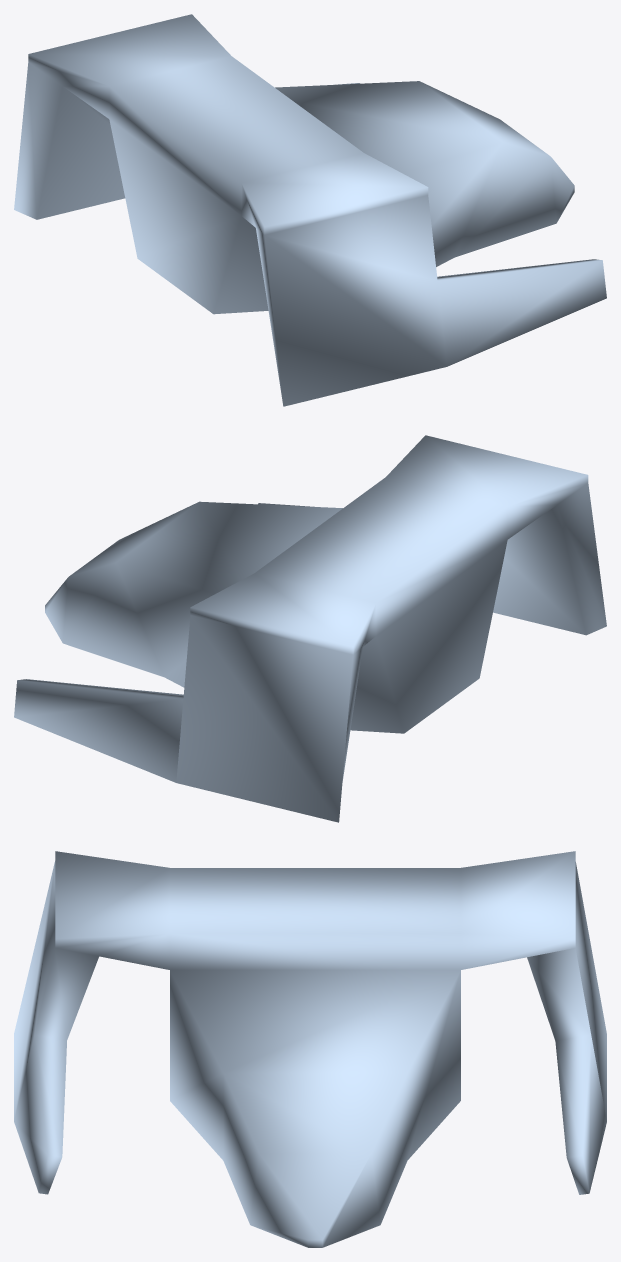
Rendered from talon_coll.obj.
3 renders of one model, top to bottom at view 1: azimuth 30°, elevation 25°; view 2: azimuth 150°, elevation 25°; view 3: azimuth 270°, elevation 25°, orthographic. The views are drawn at different scales.
Parts seen in each view (by area): view 1: cube5; view 2: cube5; view 3: cube5.
Part boxes in pixels (x1=…): cube5: x1=14, y1=14, x2=606, y2=406; cube5: x1=14, y1=435, x2=606, y2=822; cube5: x1=14, y1=851, x2=606, y2=1247.
Bounding box in the file's own units: 6.97 × 2.69 × 7.65.
